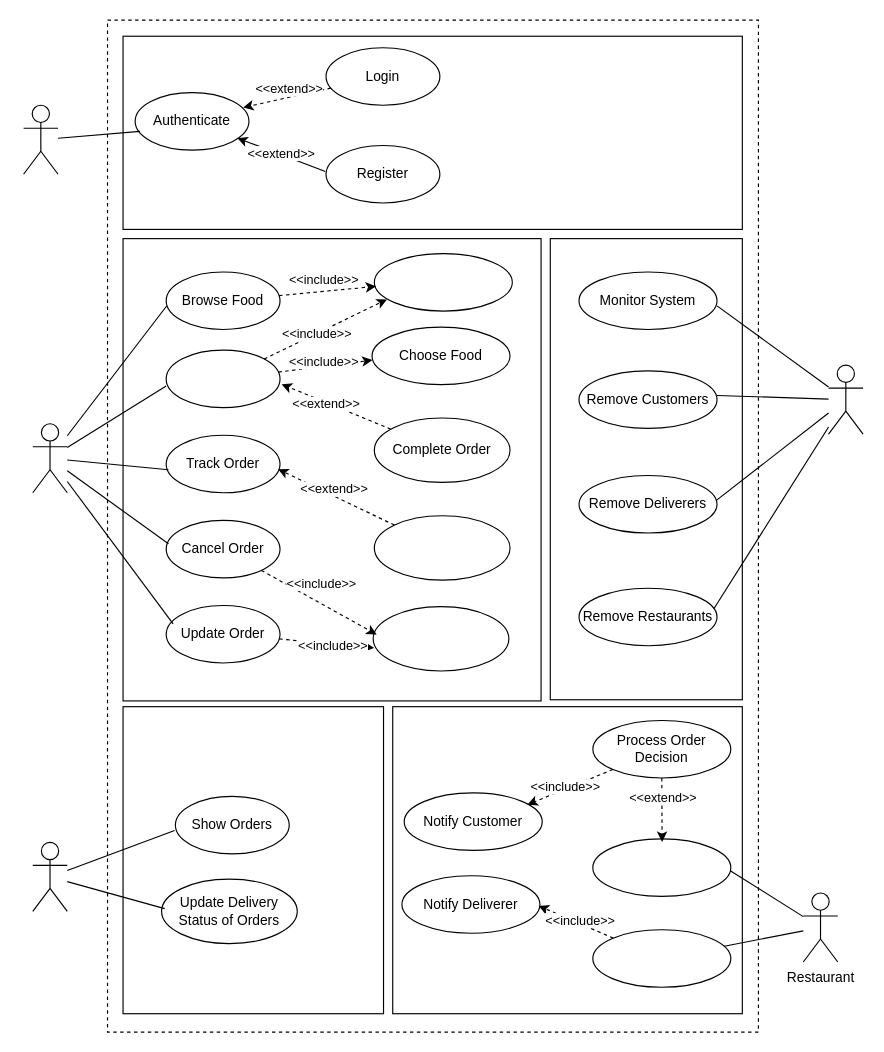
This 884x1052 diagram has some shape labels left out. Each missing label, with the box of its shape:
Admin: (827, 364, 863, 434)
Customer: (32, 423, 67, 493)
Deliverer: (32, 841, 67, 911)
Generate Selection: (373, 252, 512, 311)
Notify Restaurant (Deliverer): (372, 605, 509, 671)
Order Preparation Completion: (592, 929, 731, 987)
Place Order: (165, 349, 280, 408)
Show Order Details: (592, 838, 731, 896)
Track Delivery Driver: (373, 515, 510, 580)
User: (22, 104, 58, 174)
